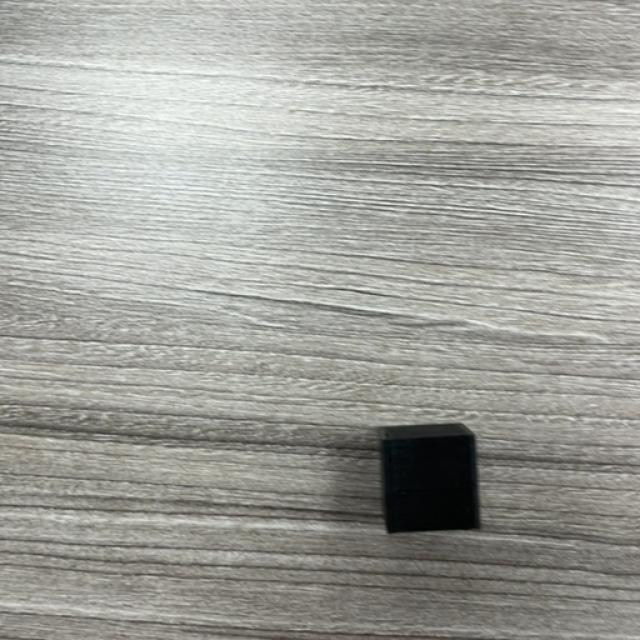Negro: (379, 422, 482, 535)
